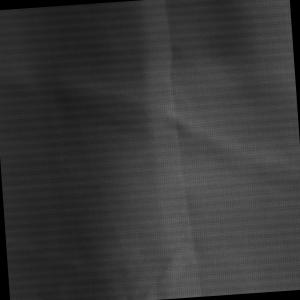Wrinkle: (1, 50, 300, 215), (111, 1, 214, 300)
